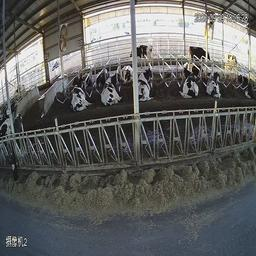cow: (4, 105, 26, 188), (171, 63, 199, 105), (69, 72, 94, 118), (139, 67, 160, 117), (99, 73, 125, 110), (205, 69, 228, 106), (119, 37, 149, 63), (191, 40, 216, 64), (238, 69, 254, 102), (225, 48, 239, 76), (118, 63, 134, 87), (95, 61, 105, 87)
